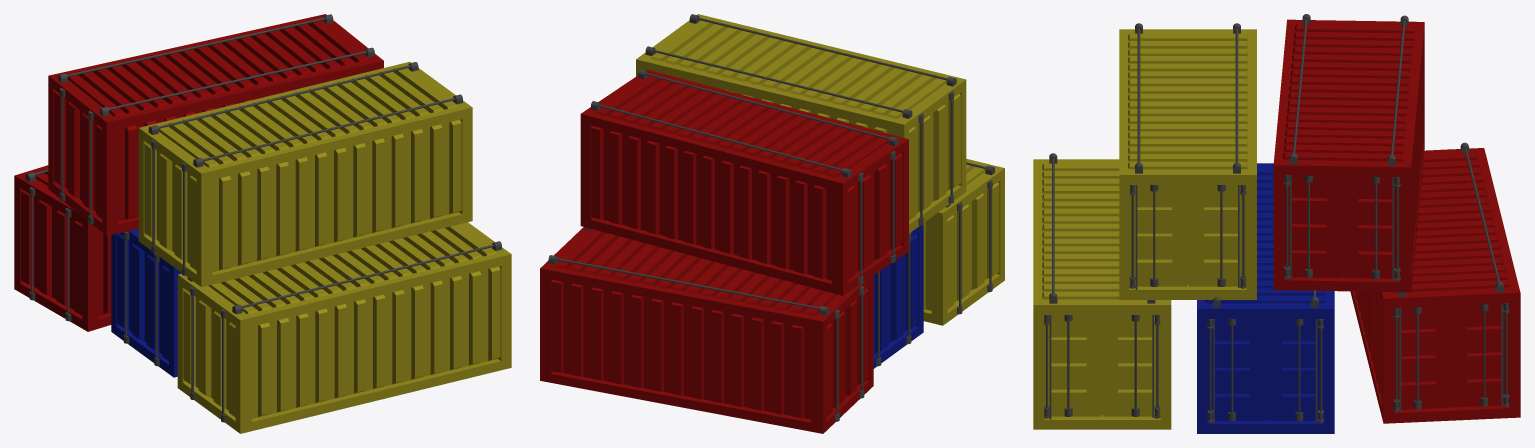
Rendered from tumpukan1.obj.
The picture shows the model from 3 angles, left to right: view 1: azimuth 30°, elevation 25°; view 2: azimuth 150°, elevation 25°; view 3: azimuth 270°, elevation 25°; orthographic projection. The views are drawn at different scales.
Visible parts, largest first — view 1: ContainerMerah.004; view 2: ContainerMerah.004; view 3: ContainerMerah.004.
Part boxes in pixels (x1=…): ContainerMerah.004: x1=14, y1=14, x2=511, y2=433; ContainerMerah.004: x1=540, y1=14, x2=1004, y2=433; ContainerMerah.004: x1=1033, y1=14, x2=1520, y2=433.
Size of the model in its own units: 16.73 by 12.68 by 21.34.
